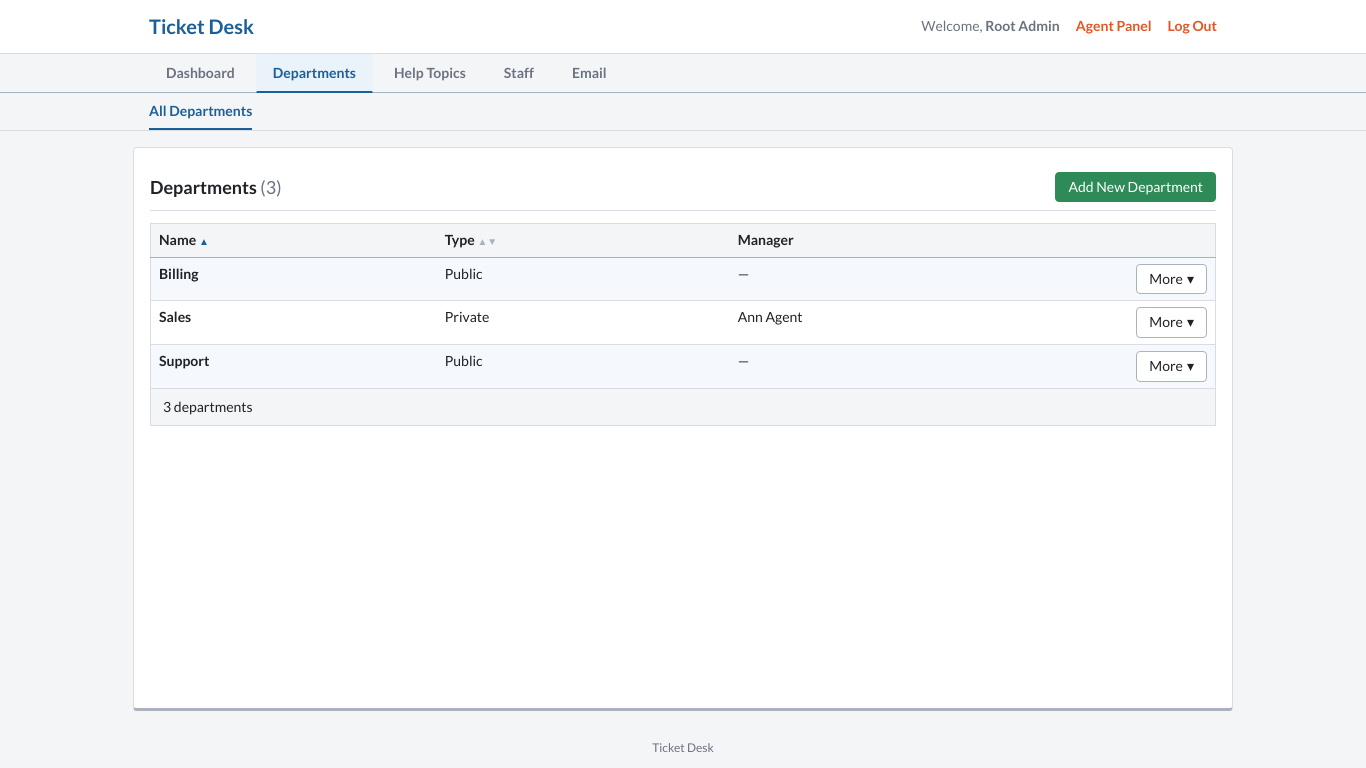
it: as admin › cancelling the confirm puts the More menu back
Expected: the link "Sales" is shown, 159,308 -> 191,326
What coordinates should you click on to do the following:
click the button "More ▾" in the row of "Sales"
I would click on:
 (1172, 323)
Its box is 1136,308 -> 1207,338.
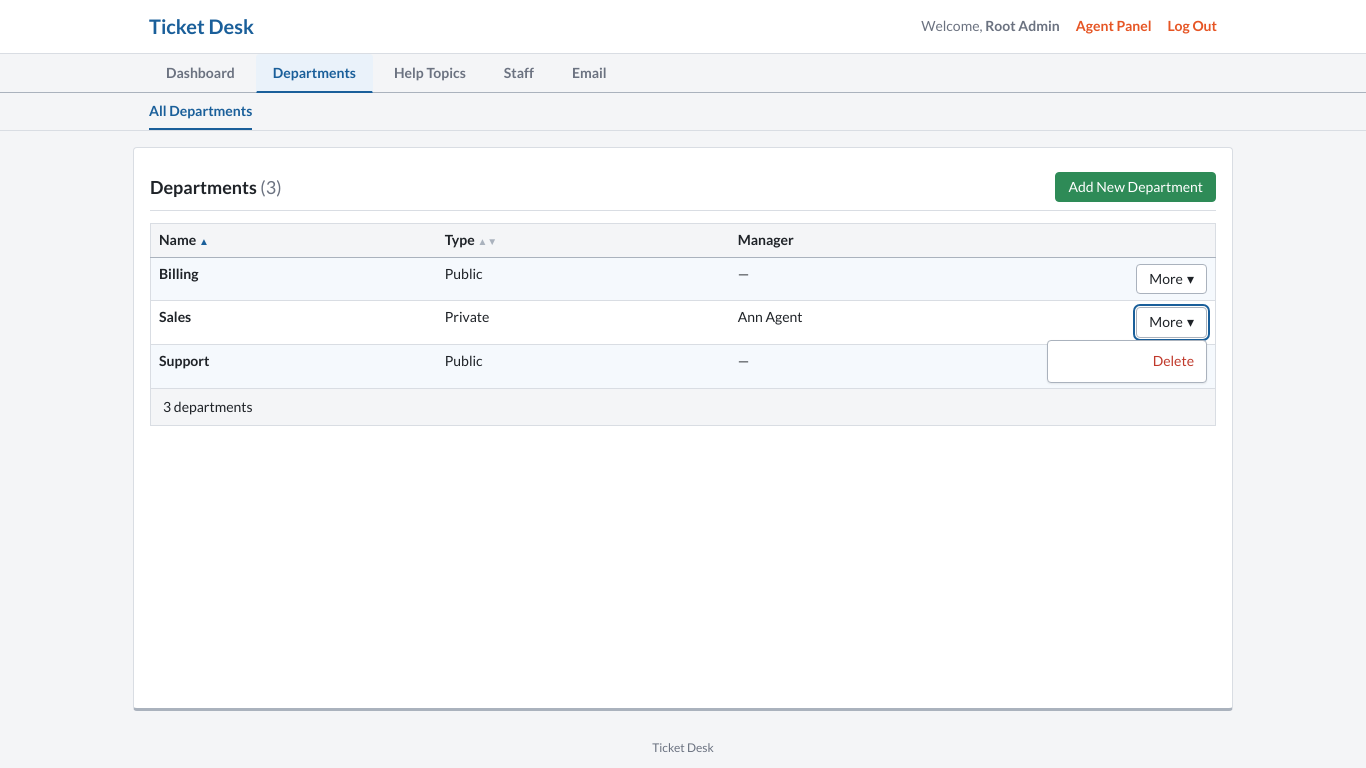
What coordinates should you click on to do the following:
click the menu item "Delete"
I would click on:
 (1173, 361)
Its box is 1153,352 -> 1194,369.
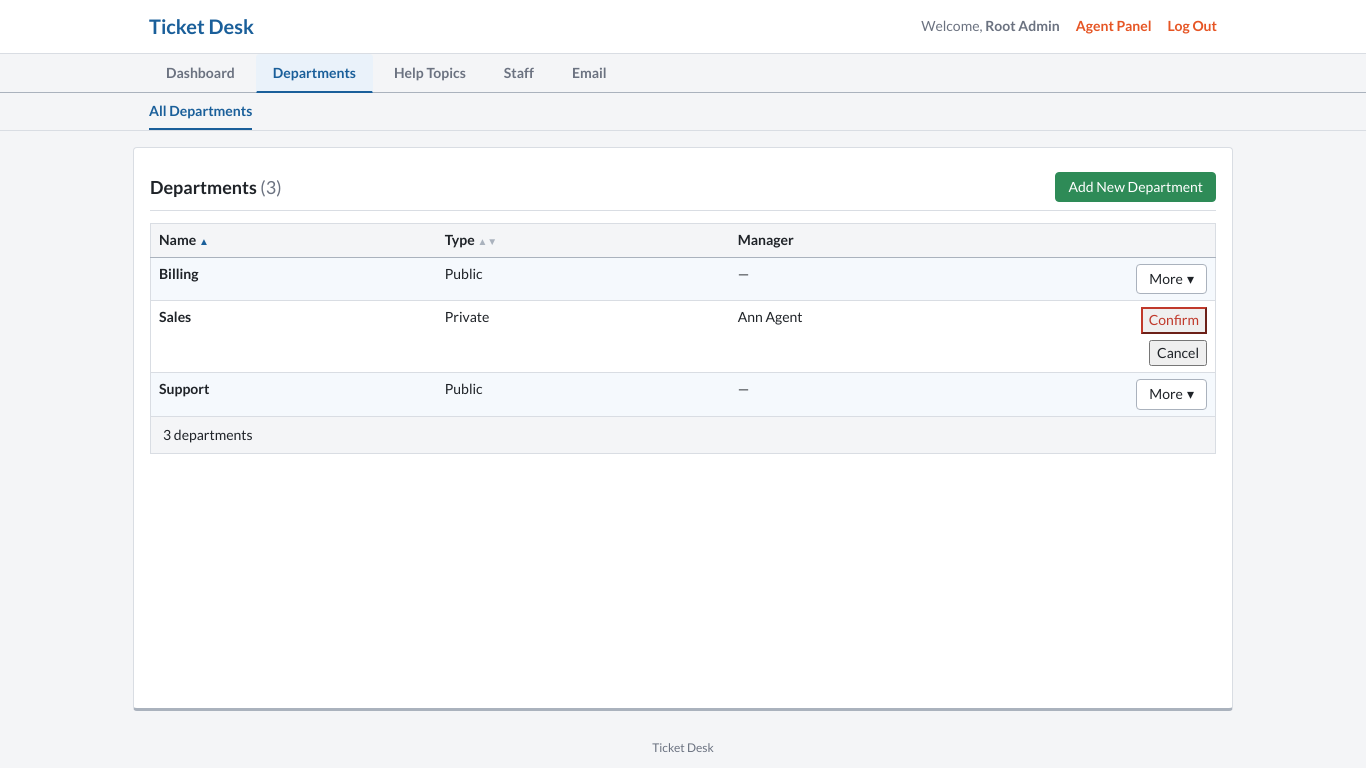
What coordinates should you click on to do the following:
click the button with aria-label "Cancel delete Sales"
I would click on:
 (1178, 353)
Its box is 1149,340 -> 1207,366.
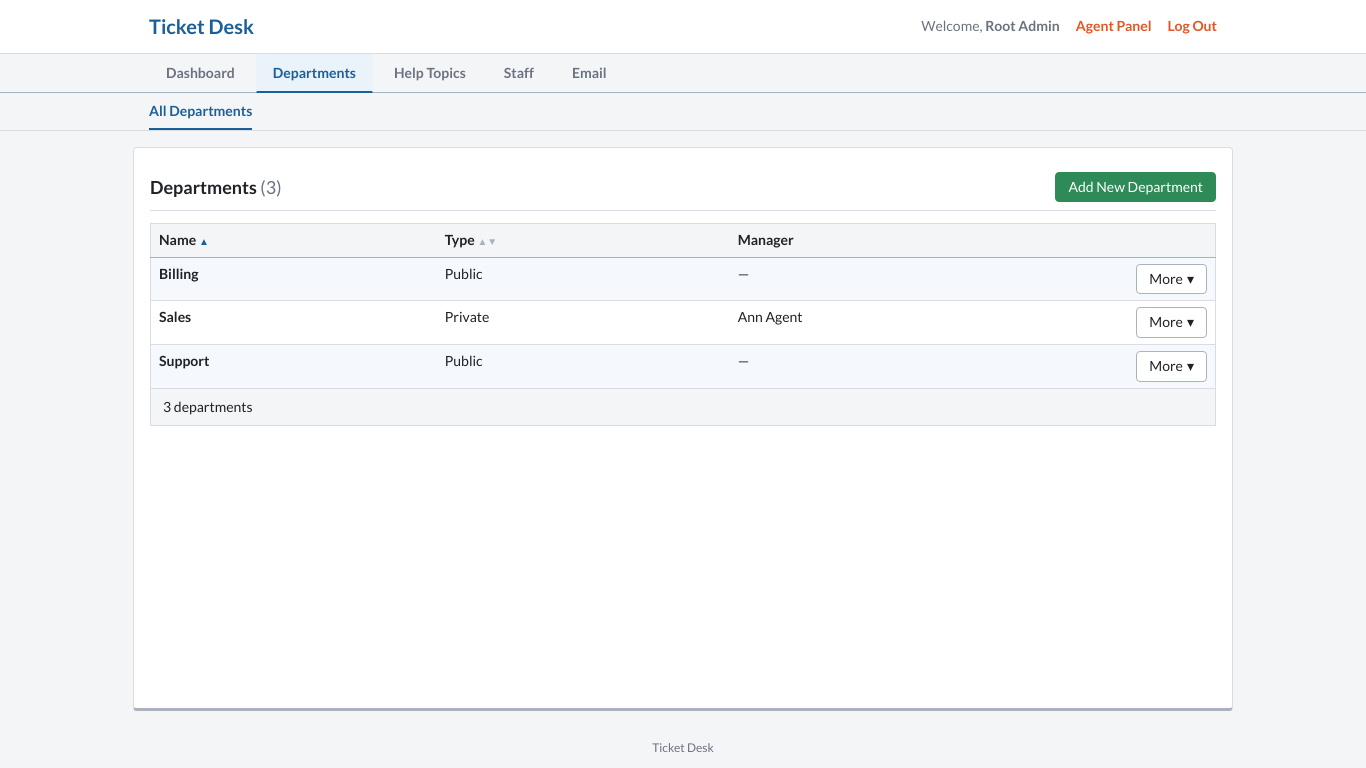
Expected: the button "More ▾" in the row of "Sales" is shown, 1136,308 -> 1207,338
